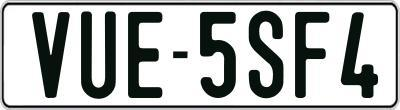4: (338, 9, 375, 96)
5: (200, 12, 236, 104)
E: (126, 12, 163, 104)
F: (292, 12, 330, 103)
S: (246, 11, 280, 98)
U: (80, 10, 120, 102)
V: (31, 12, 74, 99)
